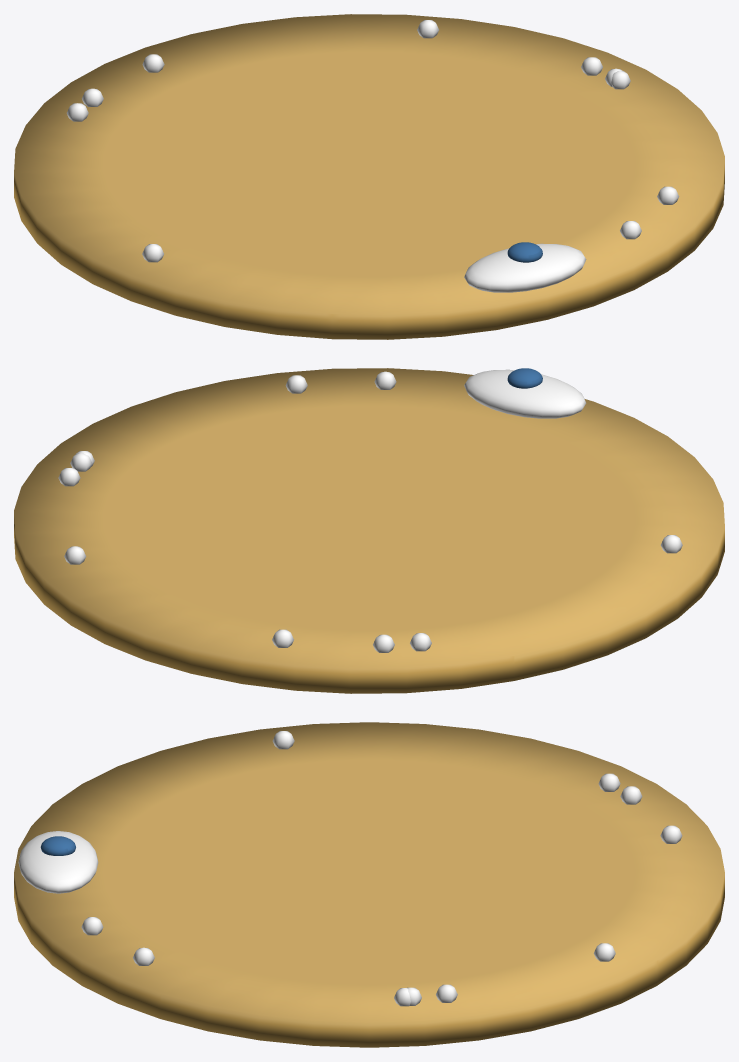
The model's file is star_ring_3.glb.
3 views of the same model, one above another, from view 1: azimuth 30°, elevation 25°; view 2: azimuth 150°, elevation 25°; view 3: azimuth 270°, elevation 25° (orthographic).
Parts seen in each view (by area): view 1: Ring; view 2: Ring; view 3: Ring.
Boxes of the visible parts, x1,y1,x2,y2 form: Ring: [14, 14, 724, 339]; Ring: [14, 368, 724, 693]; Ring: [14, 722, 724, 1047].
Size of the model in its own units: 0.64 by 0.058 by 0.64.
Materials: 1 (1 with a texture image).
